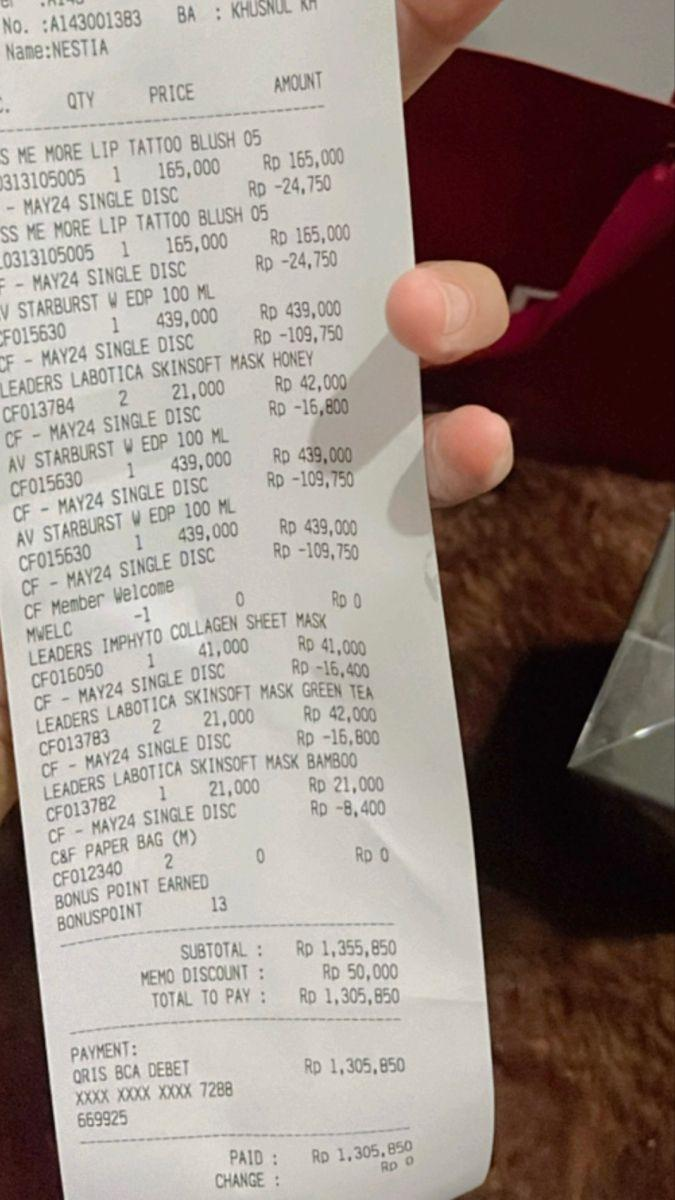receipt-in-hand: (0, 0, 491, 1199)
